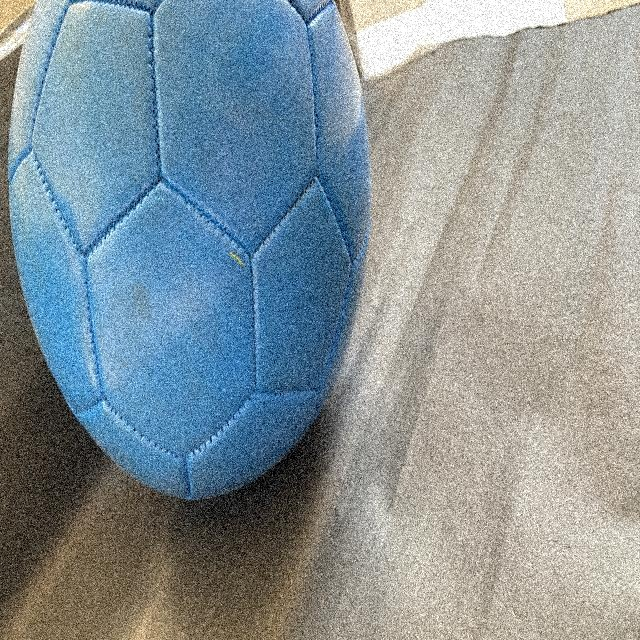blue_ball: (7, 1, 367, 504)
